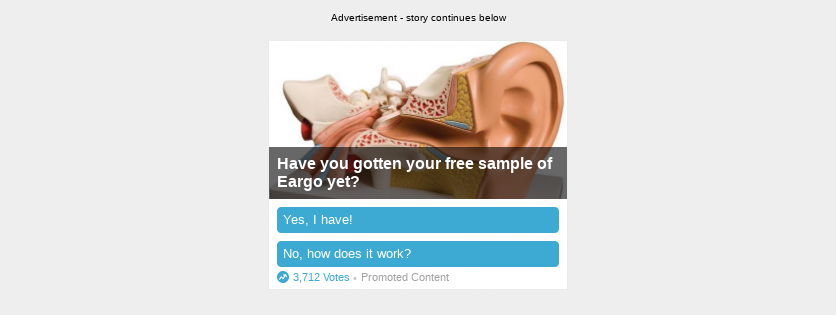fake_button: (274, 200, 568, 276)
